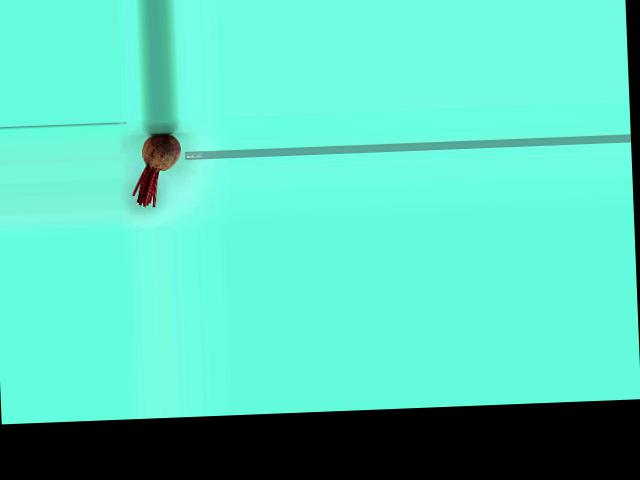beet: (130, 133, 183, 207)
